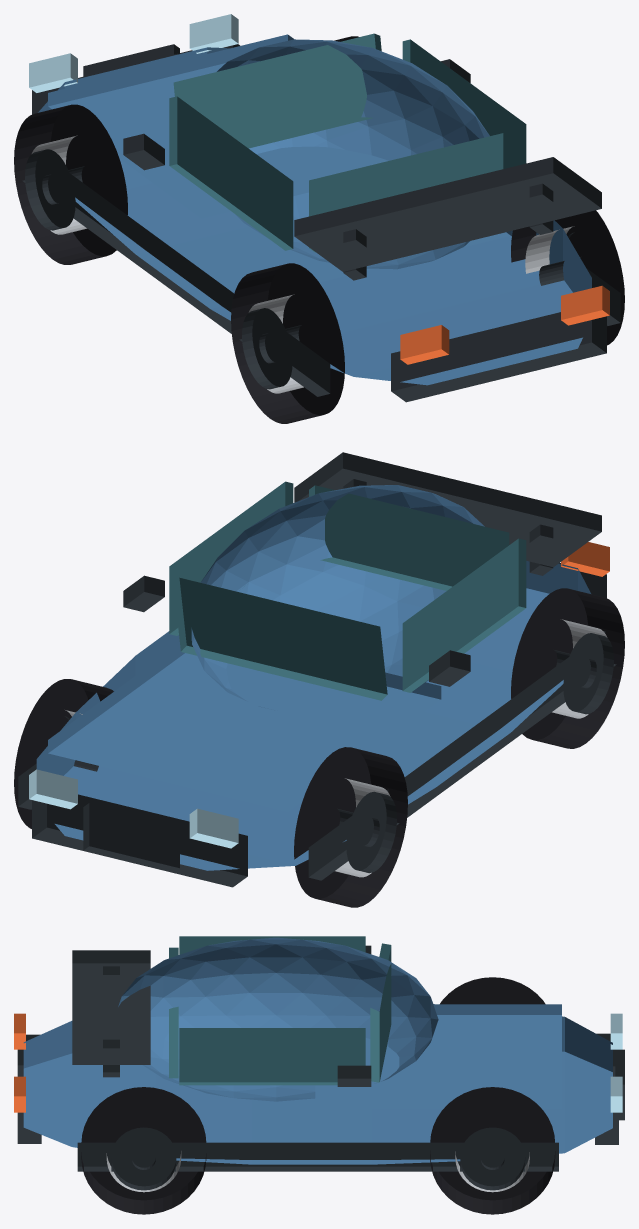
The model's file is sportster_custom_ready.glb.
The picture shows the model from 3 angles, top to bottom: view 1: azimuth 30°, elevation 25°; view 2: azimuth 150°, elevation 25°; view 3: azimuth 270°, elevation 25°; orthographic projection. The views are drawn at different scales.
Parts seen in each view (by area): view 1: Body main, Exterior Spoiler, Body RoofShell, Glass Windshield, Body Hood, Glass SideWindow Right, Wheel Rear Right Tire, Wheel Front Right Tire, Body RearBumper, Glass RearWindow, Body SideSkirt Right, Wheel Rear Left Tire (+13 smaller); view 2: Body Hood, Body main, Body RoofShell, Glass Windshield, Glass RearWindow, Exterior Spoiler, Glass SideWindow Right, Wheel Front Right Tire, Wheel Rear Right Tire, Body SideSkirt Right, Body FrontBumper, Exterior Grille (+11 smaller); view 3: Body RoofShell, Body main, Body Hood, Glass SideWindow Left, Body SideSkirt Left, Exterior Spoiler, Wheel Front Left Tire, Wheel Rear Left Tire, Brake Disc Rear Left, Brake Disc Front Left, Wheel Front Right Tire, Glass Windshield (+10 smaller).
Part boxes in pixels (box(x1,y1,x2,y2)): Body main: box(38, 47, 591, 385); Exterior Spoiler: box(294, 157, 601, 271); Body RoofShell: box(217, 39, 489, 269); Glass Windshield: box(173, 33, 381, 148); Body Hood: box(48, 34, 387, 218); Glass SideWindow Right: box(169, 96, 293, 250); Wheel Rear Right Tire: box(231, 263, 344, 423); Wheel Front Right Tire: box(14, 104, 127, 264); Body RearBumper: box(391, 312, 606, 402); Glass RearWindow: box(309, 133, 509, 252); Body SideSkirt Right: box(22, 147, 330, 396); Wheel Rear Left Tire: box(511, 210, 624, 345); Body Hood: box(48, 643, 441, 811); Body main: box(36, 561, 590, 870); Body RoofShell: box(191, 485, 484, 710); Glass Windshield: box(173, 577, 387, 700); Glass RearWindow: box(309, 485, 509, 590); Exterior Spoiler: box(294, 452, 601, 567); Glass SideWindow Right: box(402, 538, 526, 692); Wheel Front Right Tire: box(294, 747, 407, 907); Wheel Rear Right Tire: box(511, 588, 624, 748); Body SideSkirt Right: box(308, 631, 616, 880); Body FrontBumper: box(32, 794, 247, 887); Exterior Grille: box(83, 803, 179, 872); Body RoofShell: box(118, 937, 438, 1101); Body main: box(23, 1004, 612, 1164); Body Hood: box(315, 1004, 561, 1108); Glass SideWindow Left: box(179, 1028, 365, 1085); Body SideSkirt Left: box(77, 1142, 558, 1171); Exterior Spoiler: box(72, 950, 150, 1064); Wheel Front Left Tire: box(430, 1087, 555, 1214); Wheel Rear Left Tire: box(81, 1087, 206, 1214); Brake Disc Rear Left: box(111, 1127, 176, 1190); Brake Disc Front Left: box(460, 1127, 525, 1190); Wheel Front Right Tire: box(440, 977, 545, 1004); Glass Windshield: box(370, 943, 391, 1082).
Bounding box in the file's own units: 2.56 × 1.84 × 5.08.
